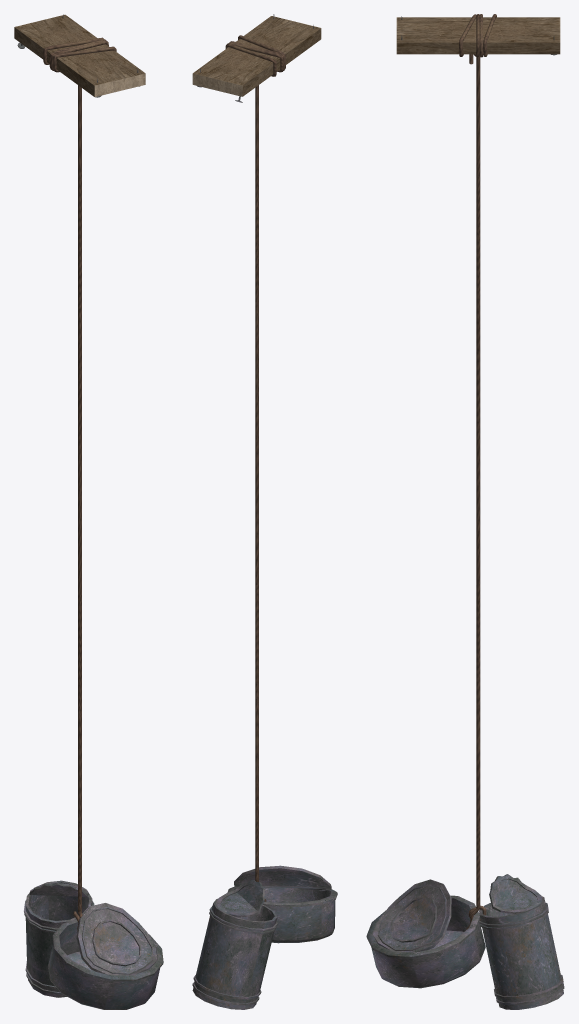
Rendered from банки.fbx.
3 views of the same model, side by side, from view 1: azimuth 30°, elevation 25°; view 2: azimuth 150°, elevation 25°; view 3: azimuth 270°, elevation 25° (orthographic). The views are drawn at different scales.
Parts seen in each view (by area): view 1: Окружность.001, Окружность.003, Окружность.006, Окружность.005, Окружность.007, Окружность.004, Окружность.002; view 2: Окружность.001, Окружность.003, Окружность.006, Окружность.005, Окружность.007, Окружность.004, Окружность.002; view 3: Окружность.001, Окружность.003, Окружность.006, Окружность.005, Окружность.007, Окружность.004, Окружность.002, Окружность.009.
Boxes of the visible parts, left/top/right/bottom form: Окружность.001: left=24, top=880, right=163, bottom=1009; Окружность.003: left=14, top=14, right=145, bottom=97; Окружность.006: left=78, top=306, right=81, bottom=452; Окружность.005: left=78, top=452, right=81, bottom=595; Окружность.007: left=78, top=170, right=81, bottom=307; Окружность.004: left=78, top=594, right=81, bottom=715; Окружность.002: left=78, top=714, right=81, bottom=834; Окружность.001: left=192, top=865, right=337, bottom=1009; Окружность.003: left=192, top=14, right=321, bottom=102; Окружность.006: left=255, top=302, right=258, bottom=445; Окружность.005: left=255, top=445, right=258, bottom=584; Окружность.007: left=255, top=168, right=258, bottom=302; Окружность.004: left=255, top=584, right=258, bottom=702; Окружность.002: left=255, top=702, right=258, bottom=819; Окружность.001: left=366, top=874, right=564, bottom=1009; Окружность.003: left=396, top=14, right=560, bottom=64; Окружность.006: left=476, top=291, right=480, bottom=439; Окружность.005: left=476, top=439, right=480, bottom=585; Окружность.007: left=476, top=152, right=480, bottom=291; Окружность.004: left=476, top=584, right=480, bottom=707; Окружность.002: left=476, top=706, right=480, bottom=828; Окружность.009: left=476, top=56, right=480, bottom=153.
Bounding box in the file's own units: 339 × 3185 × 585.
